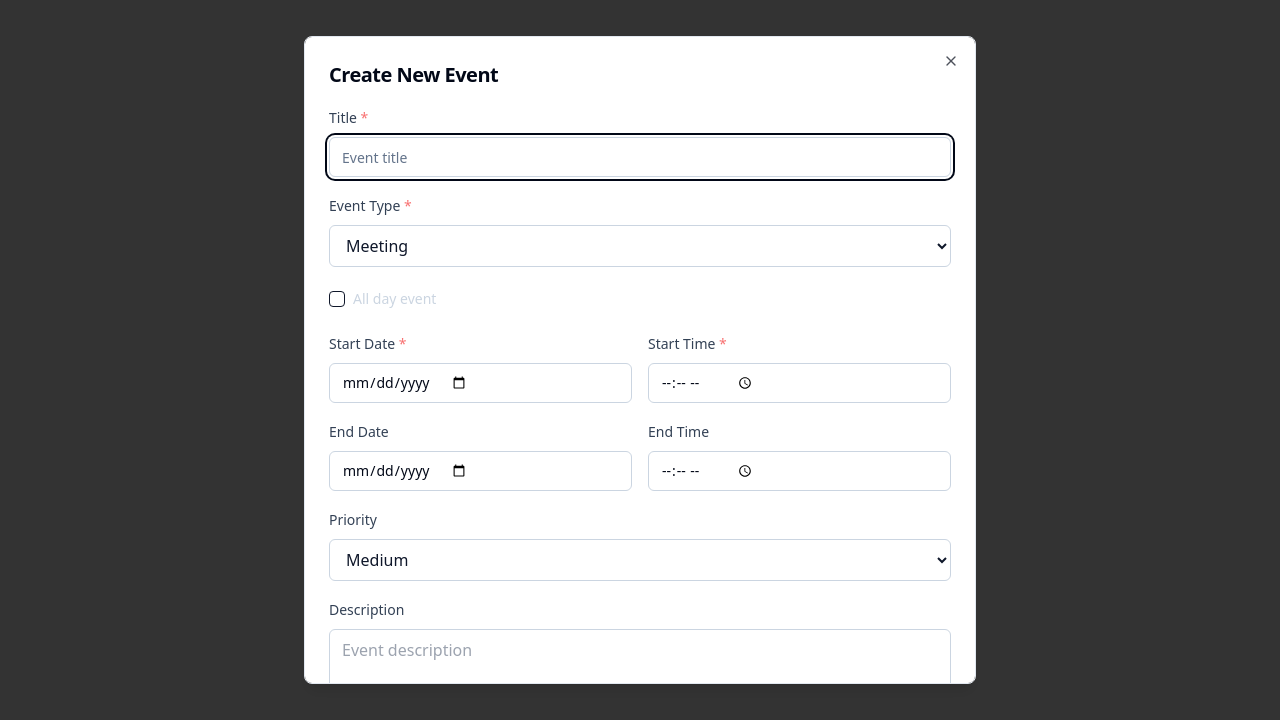
Scenario: EventFormDialog › requires start time when not all-day
The width and height of the screenshot is (1280, 720).
In the field labelled "Title *": (640, 157) top-left (329, 137), bottom-right (951, 177), type "Test Event"
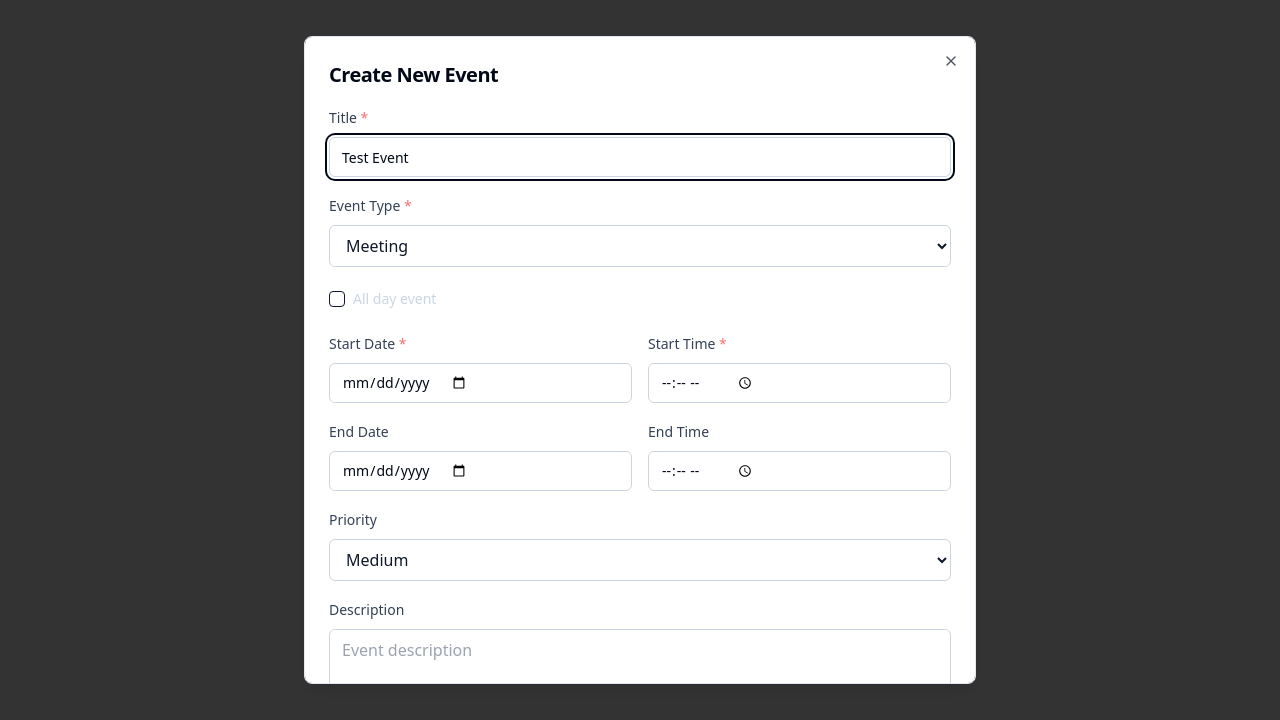
In the date field labelled "Start Date *": (480, 383) top-left (329, 363), bottom-right (632, 403), type "2025-01-15"
(page scrolled)
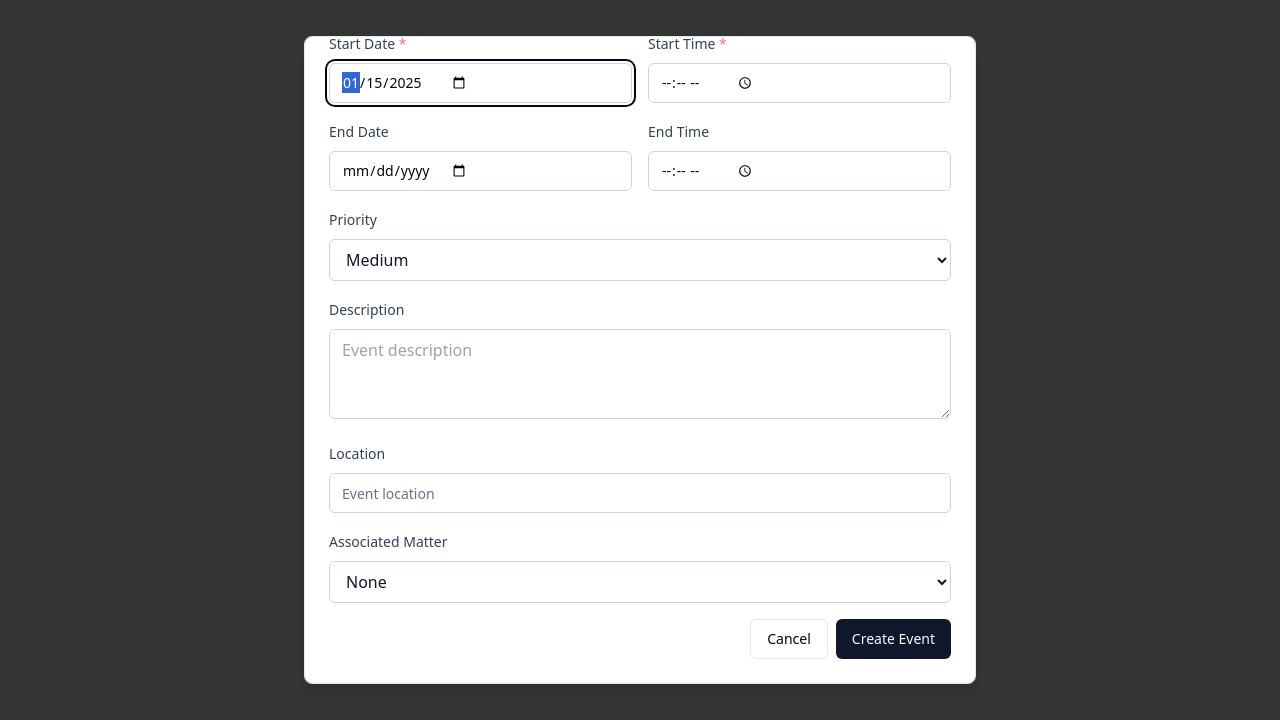
Click the button "Create Event": click(893, 639) top-left (836, 619), bottom-right (951, 659)
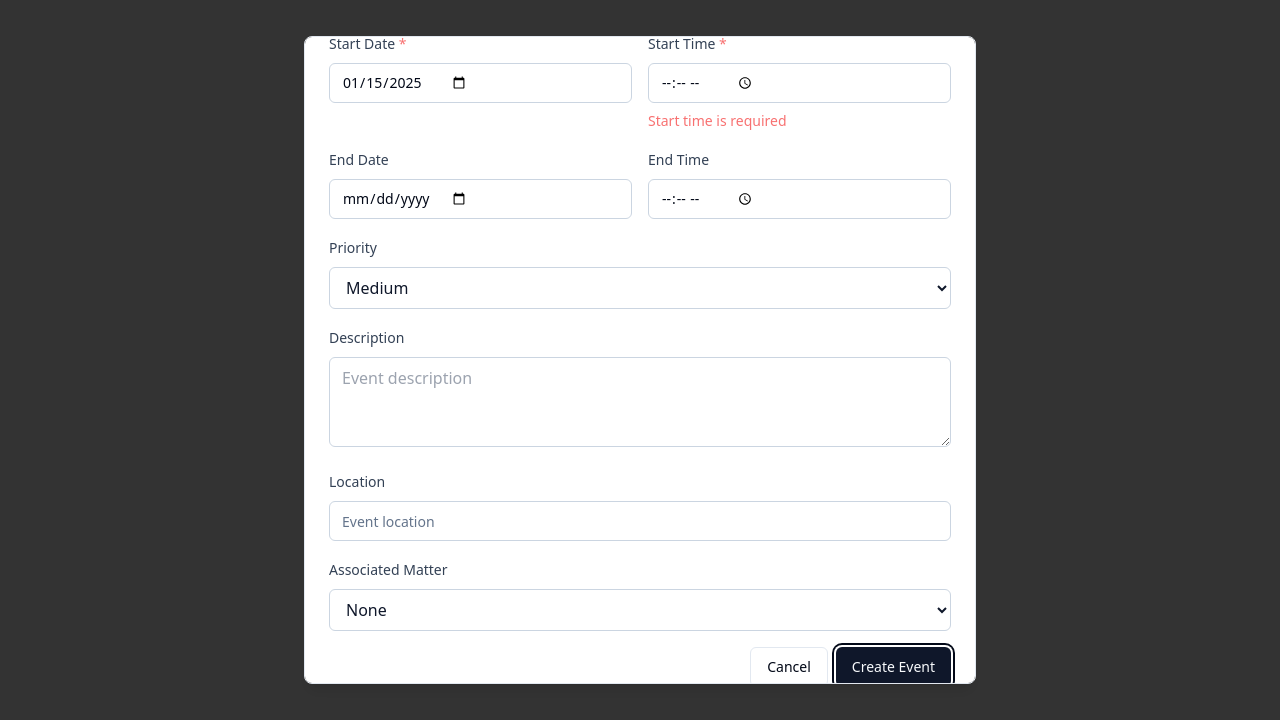
Result: the text "Start time is required" is shown at top-left (648, 111), bottom-right (787, 130)
